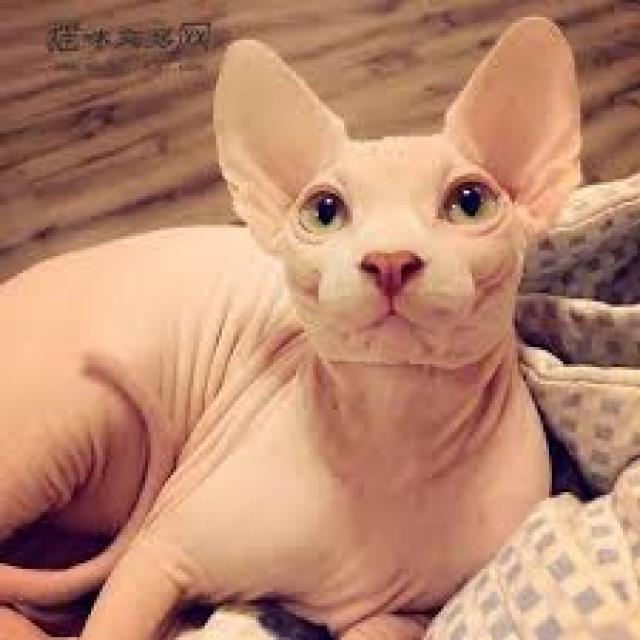cat: (63, 58, 640, 580)
